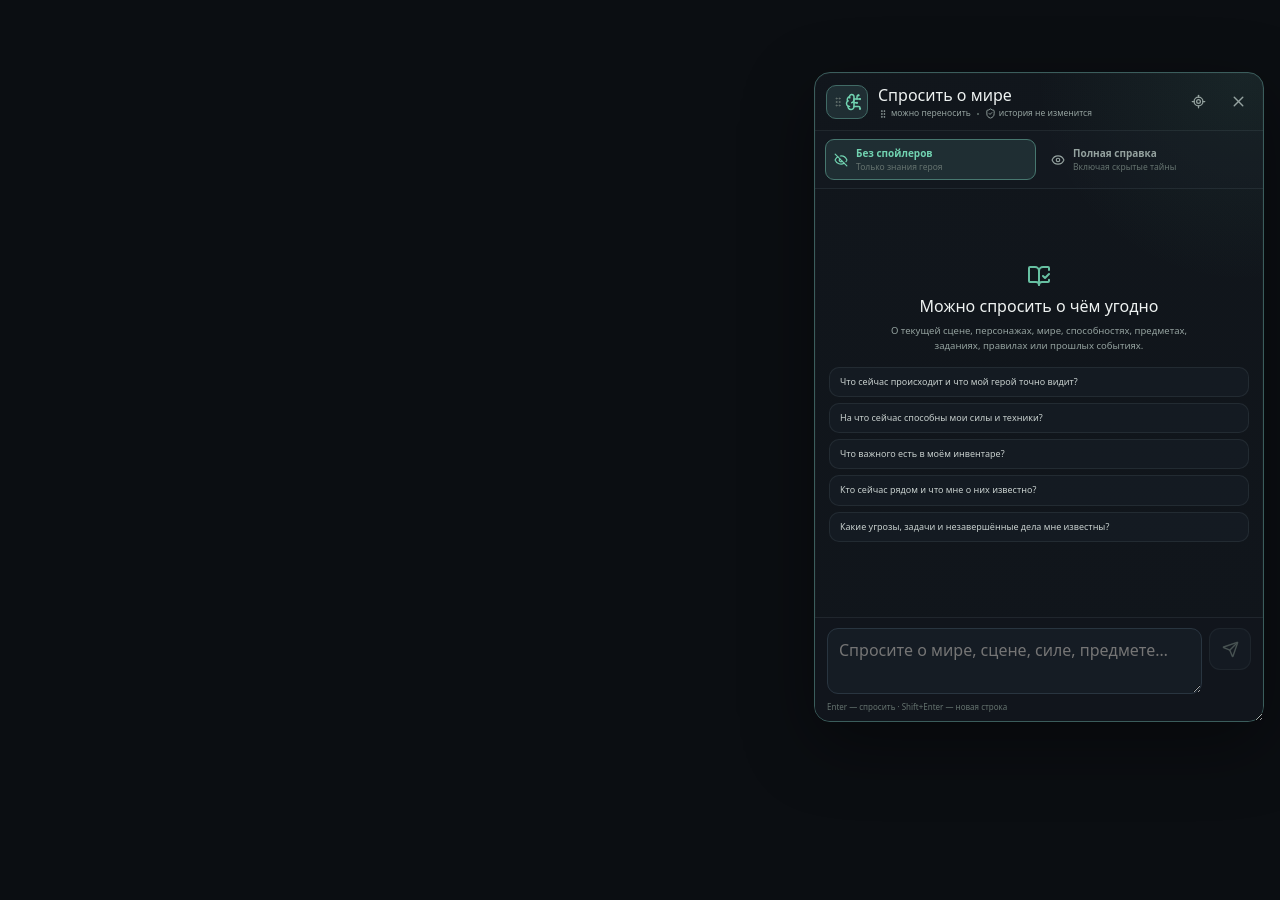
it: world question panel › requires an explicit switch before hidden campaign knowledge is requested
Click the button "Полная справка Включая скрытые тайны": click(1148, 160) [1042,139,1253,180]
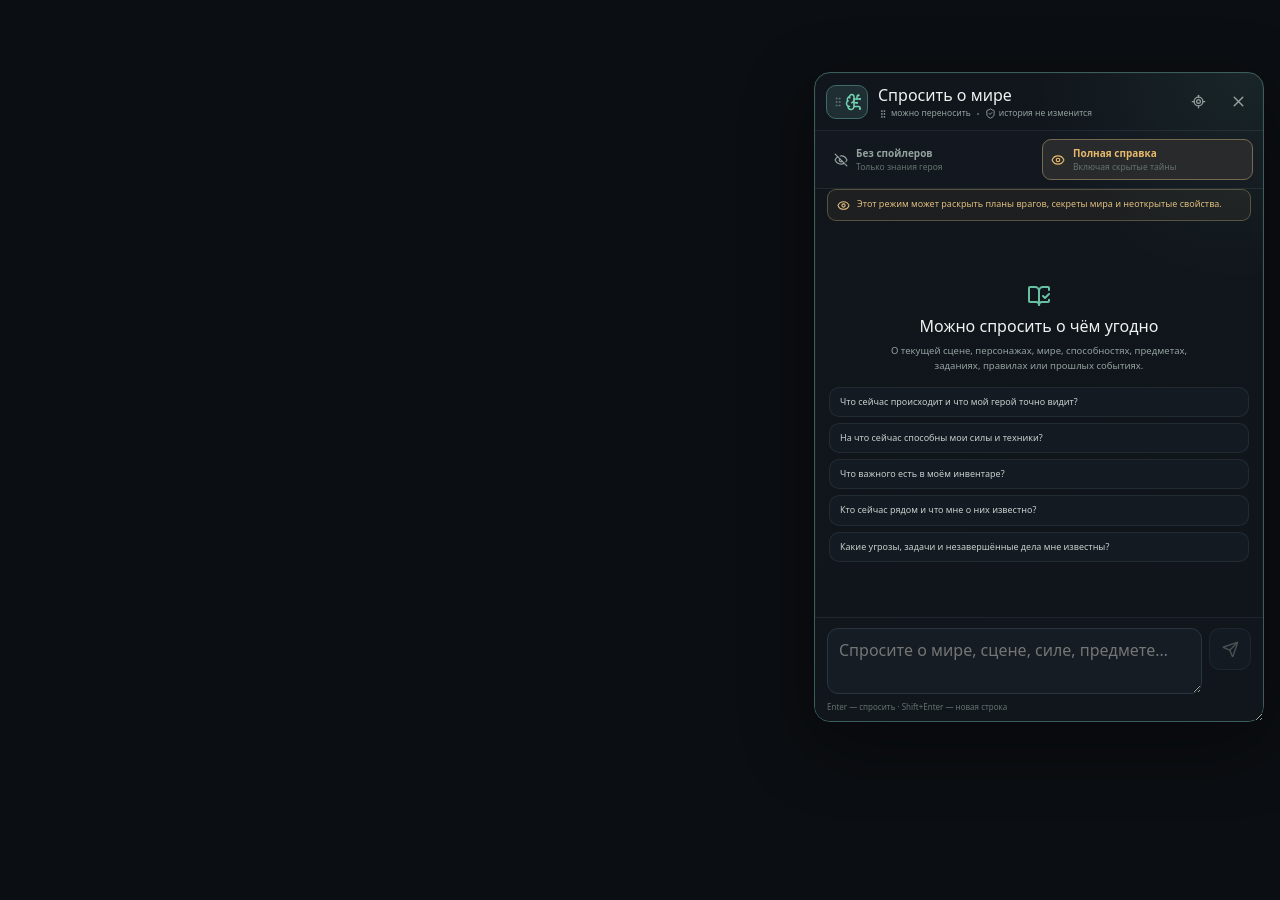
Now the text "Этот режим может раскрыть планы врагов" is shown, box [857,197,1222,210]
In the text box named "Вопрос о кампании": (1014, 661) [827,628,1202,694], type "Каков настоящий план врага?"
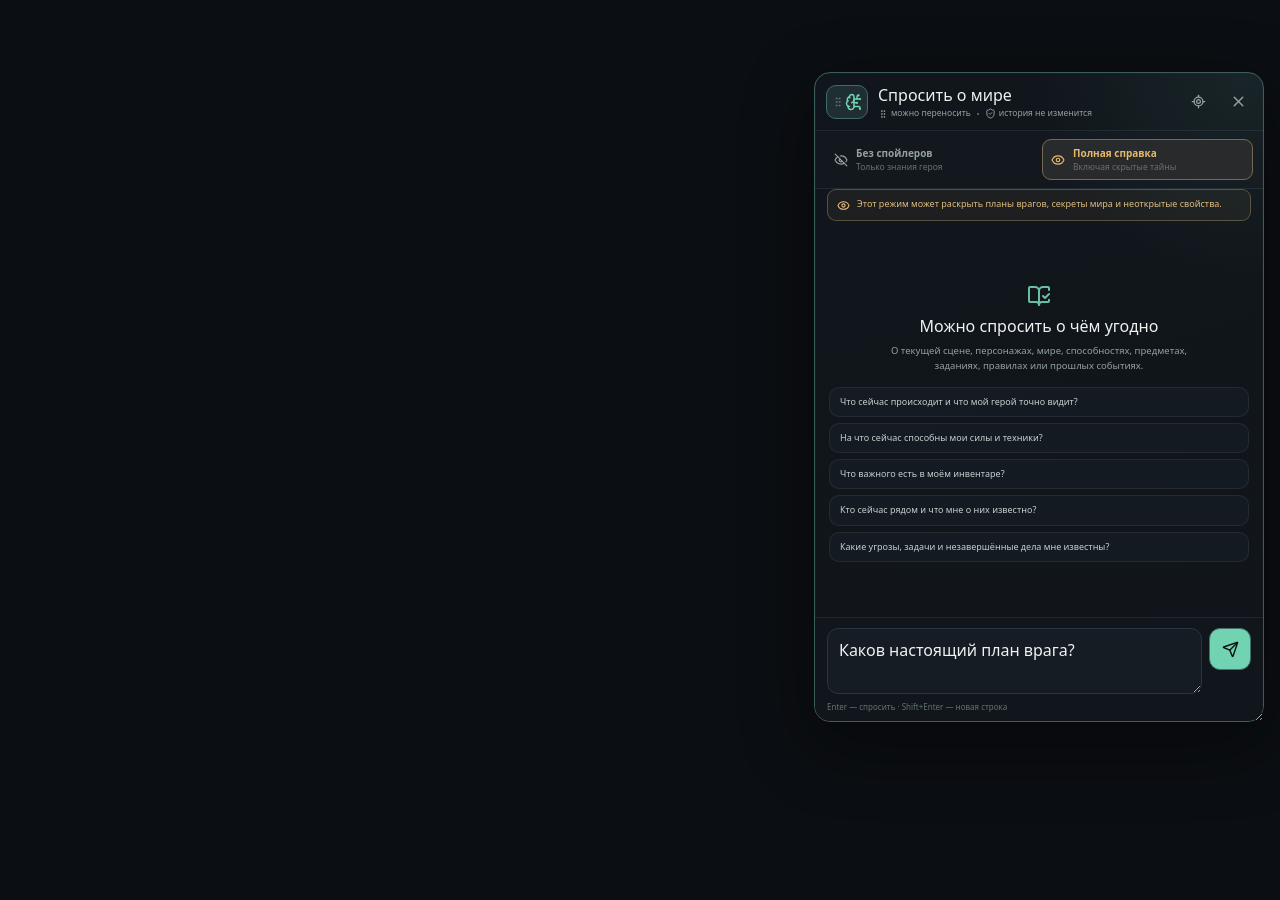
Press Enter in the text box named "Вопрос о кампании", box [827,628,1202,694]
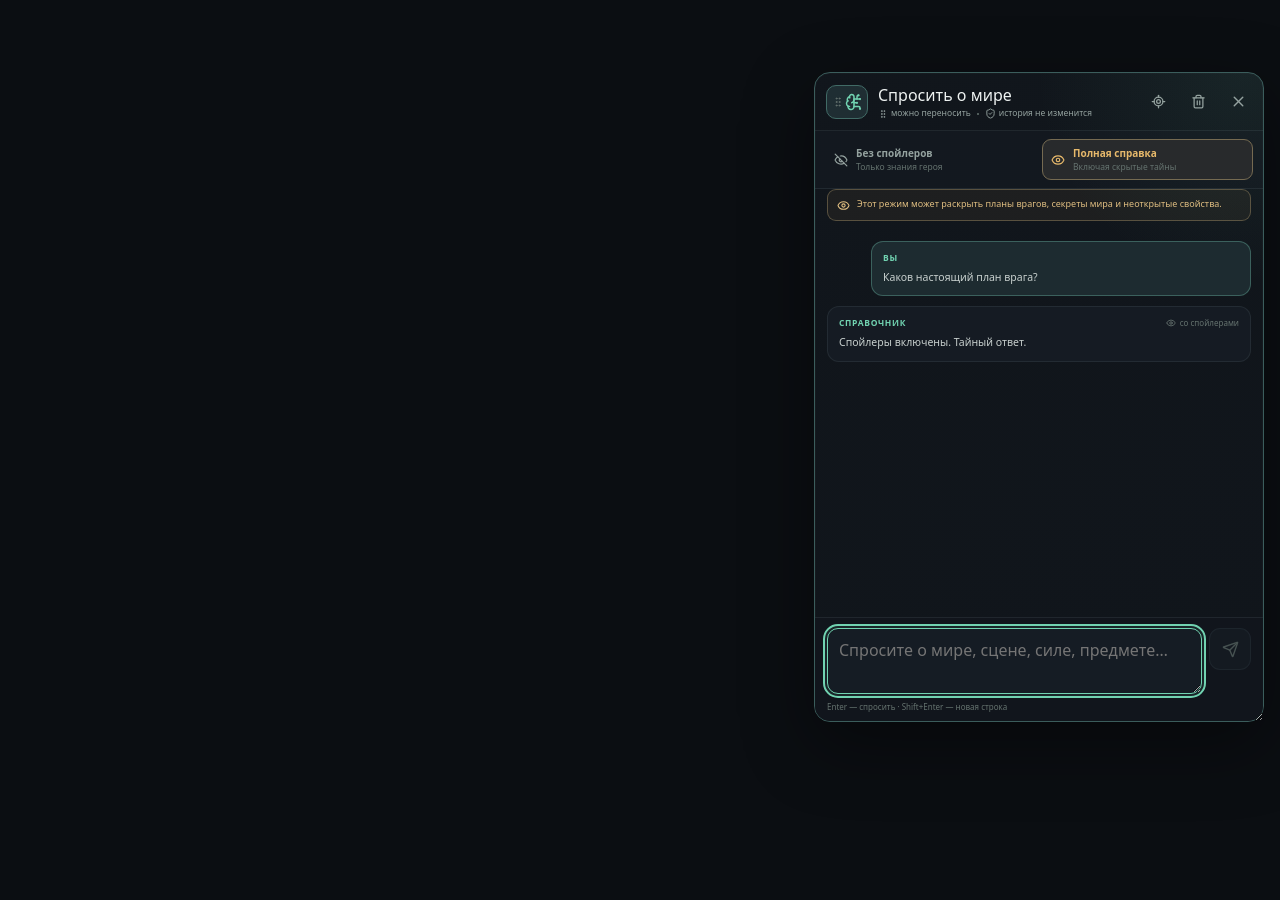
Now the text "Спойлеры включены. Тайный ответ." is shown, box [839,335,1026,349]
